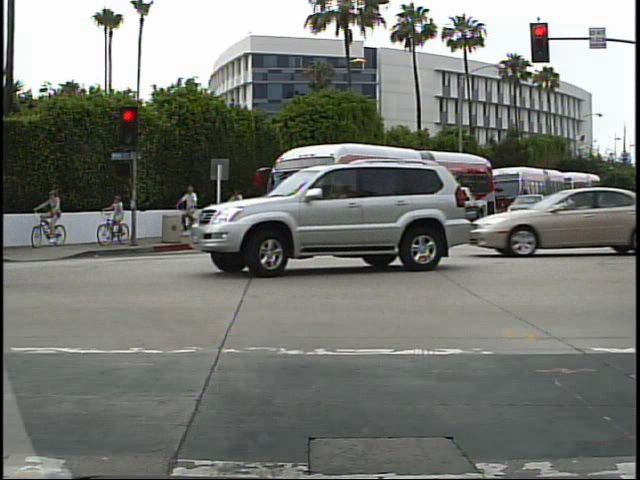person: (103, 194, 130, 249)
